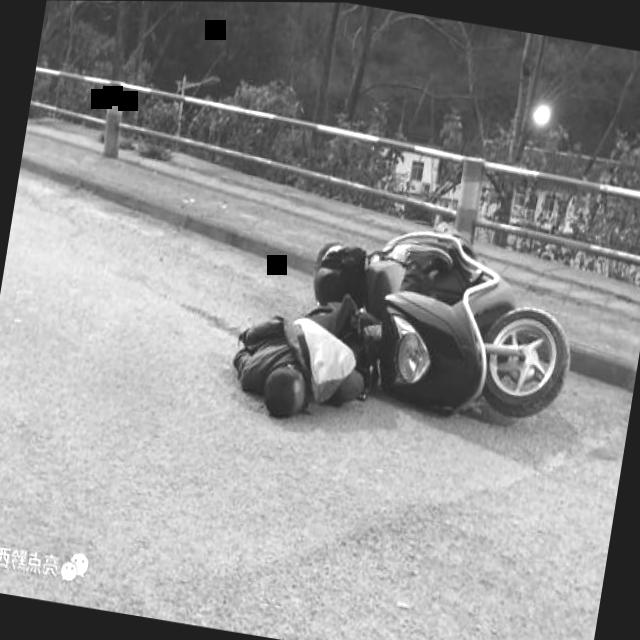Fall-Detected: (221, 265, 395, 443)
